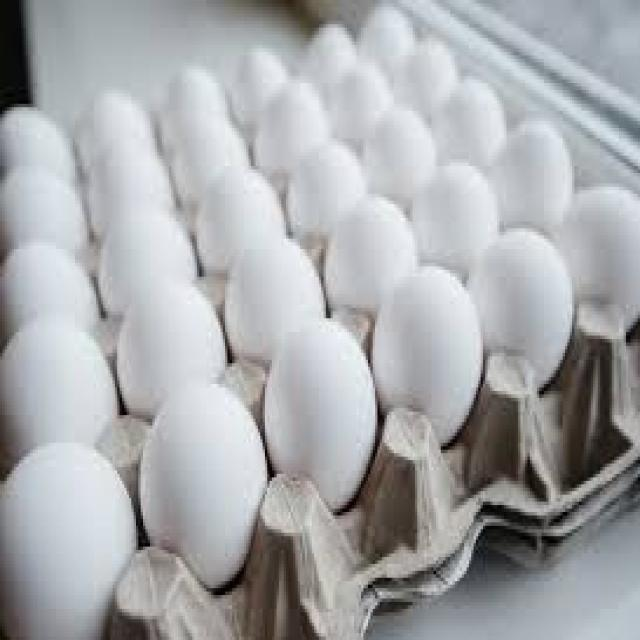White Egg: (0, 432, 138, 639), (138, 378, 271, 588), (259, 305, 381, 521), (369, 260, 483, 442), (466, 224, 576, 396), (1, 322, 120, 463), (118, 277, 232, 423), (224, 235, 331, 370), (562, 181, 640, 335), (326, 194, 418, 305), (416, 164, 501, 275), (0, 242, 102, 334), (499, 119, 577, 232)
